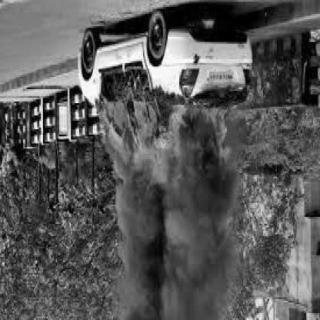Fire: (89, 94, 249, 242)
Smoke: (109, 150, 239, 320)
